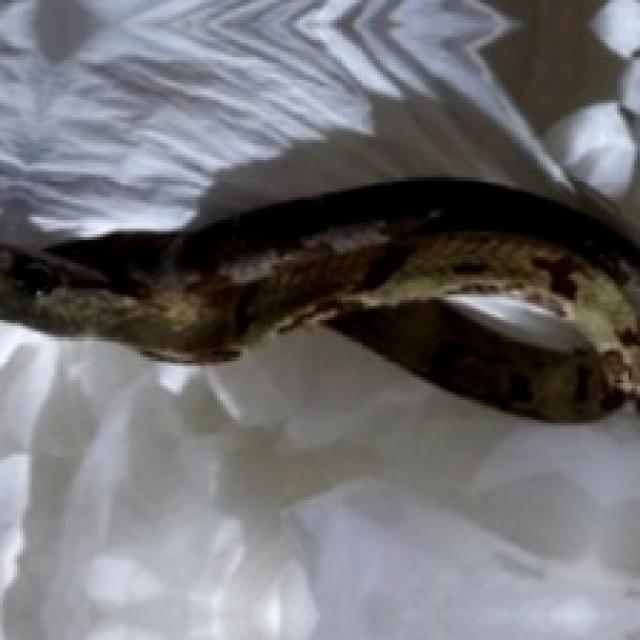dog-toothed cat snake: (0, 180, 637, 417)
